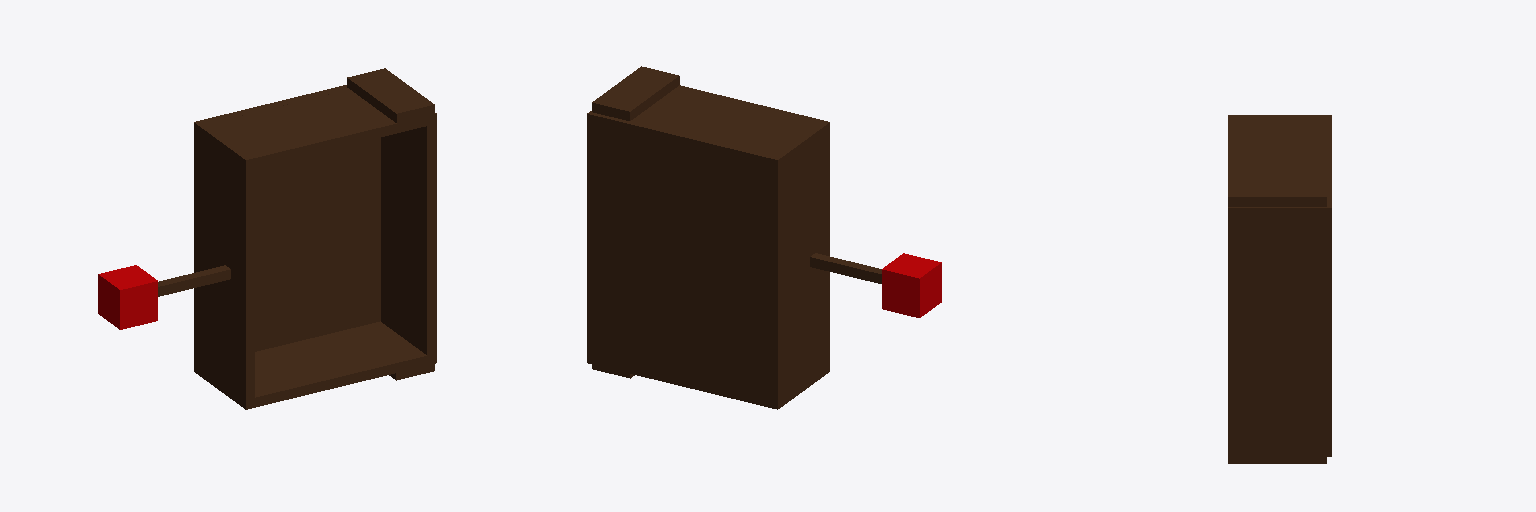
File: drawerhandle.obj
3 views of the same model, side by side, from view 1: azimuth 30°, elevation 25°; view 2: azimuth 150°, elevation 25°; view 3: azimuth 270°, elevation 25° (orthographic).
Parts seen in each view (by area): view 1: Cube.009_Cube.001, Cube.002_Cube.015; view 2: Cube.009_Cube.001, Cube.002_Cube.015; view 3: Cube.009_Cube.001.
Part boxes in pixels (x1,y1,x2,y2): Cube.009_Cube.001: (158, 68, 436, 409); Cube.002_Cube.015: (98, 265, 157, 329); Cube.009_Cube.001: (587, 66, 881, 409); Cube.002_Cube.015: (882, 253, 941, 317); Cube.009_Cube.001: (1228, 115, 1331, 463).
Bounding box in the file's own units: 0.3244 × 0.2672 × 0.095.